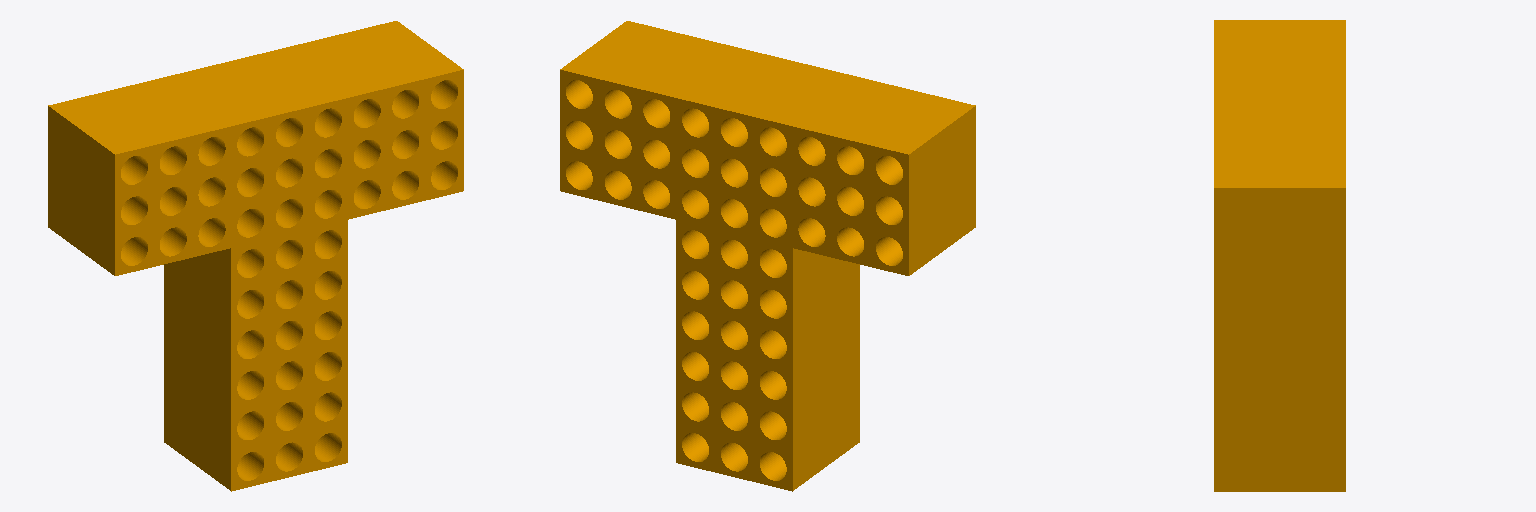
URDF robot description (tipT):
<?xml version="1.0"?>
<!-- GENERATED from tipT.yaml by `object_models generate`. Do not edit. -->
<!-- status: provisional. Body frame = CAD frame of tipT.yaml. -->
<robot name="tipT">
  <link name="tipT">
    <visual>
      <geometry>
        <mesh filename="package://irb120_models/objects/tipT/meshes/tipT.stl"/>
      </geometry>
    </visual>
    <collision>
      <geometry>
        <mesh filename="package://irb120_models/objects/tipT/meshes/tipT.stl"/>
      </geometry>
    </collision>
  </link>
</robot>

--- What the picture shows (computed from the rendered views, not written in the file) ---
The picture shows the robot from 3 angles, left to right: view 1: azimuth 30°, elevation 25°; view 2: azimuth 150°, elevation 25°; view 3: azimuth 270°, elevation 25°; orthographic projection.
Model tipT with 1 links and 0 joints (none), rooted at tipT, posed all joints at 0.
Links seen in each view (by area): view 1: tipT; view 2: tipT; view 3: tipT.
Boxes of the visible links, box(x1,y1,x2,y2) form: tipT: box(48, 21, 463, 491); tipT: box(560, 21, 975, 491); tipT: box(1214, 20, 1345, 491).
Size in the robot's own frame: 0.18 by 0.06 by 0.18 metres.
Meshes: 1 distinct files referenced, 1 mesh visuals loaded (1 binary STL).
